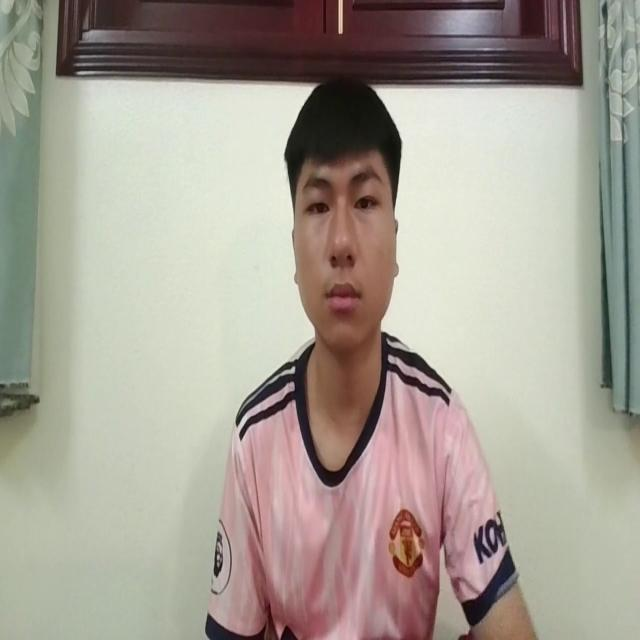student: (209, 70, 533, 640)
